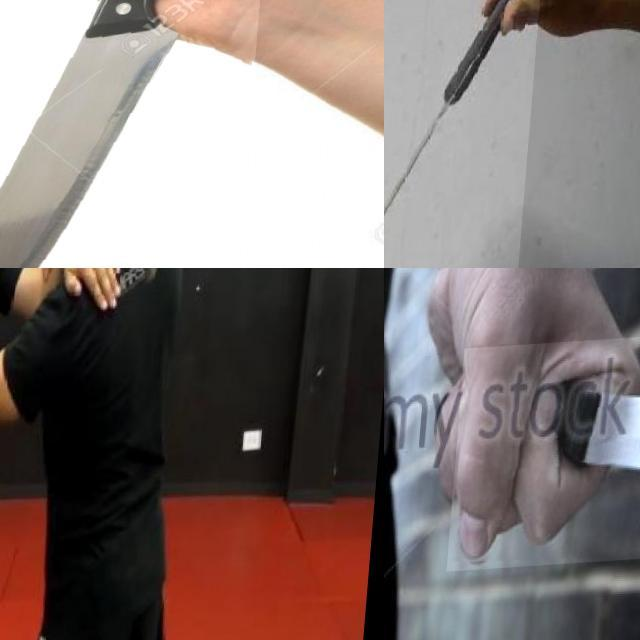-: (0, 0, 275, 268), (454, 332, 640, 574), (384, 0, 545, 268), (0, 492, 47, 584)
